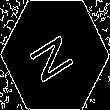N_NE: (27, 25, 83, 85)
